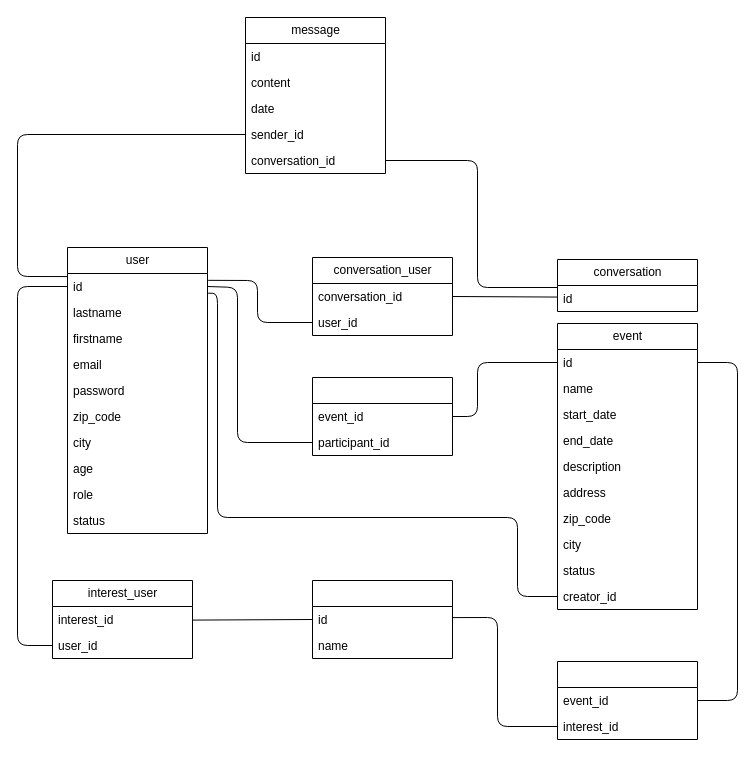
The diagram is 756 pixels wide and 760 high, and some of its shapes have lost their labels. Here are the shapes that lost their labels. From the top down, the box of each, then its label:
(312, 376, 452, 456): event_participant
(312, 580, 452, 658): interest
(556, 660, 698, 740): event_interest
